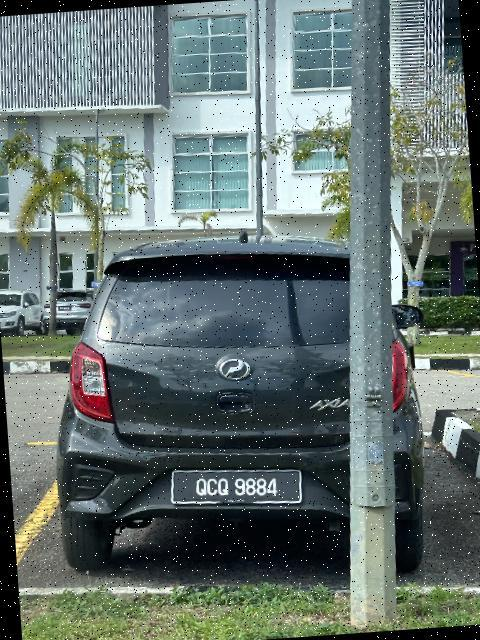License_Plate: (173, 466, 303, 514)
QCQ9884: (173, 466, 303, 514)
car: (27, 217, 439, 596)
